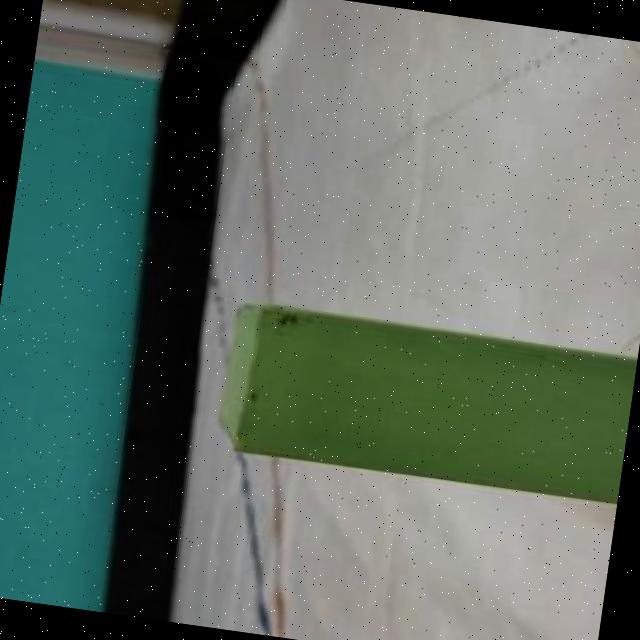greenbox: (211, 298, 638, 504)
